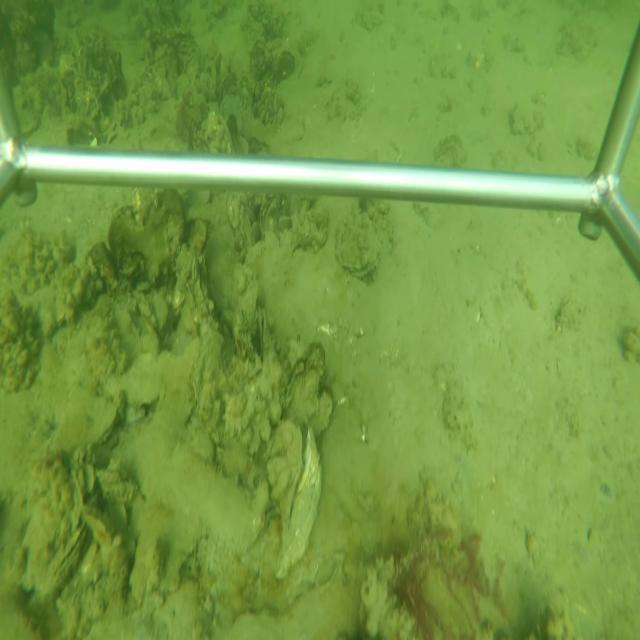Oyster-Closed: (40, 522, 88, 596), (187, 316, 223, 412), (335, 212, 385, 278), (282, 360, 322, 420), (86, 402, 120, 449), (196, 261, 212, 312), (258, 306, 271, 358)
Oyster-Open: (276, 423, 322, 579)
